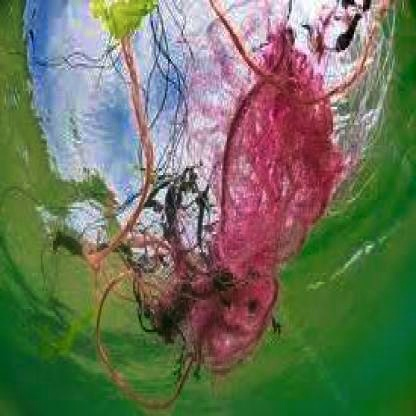net: (88, 2, 363, 400)
